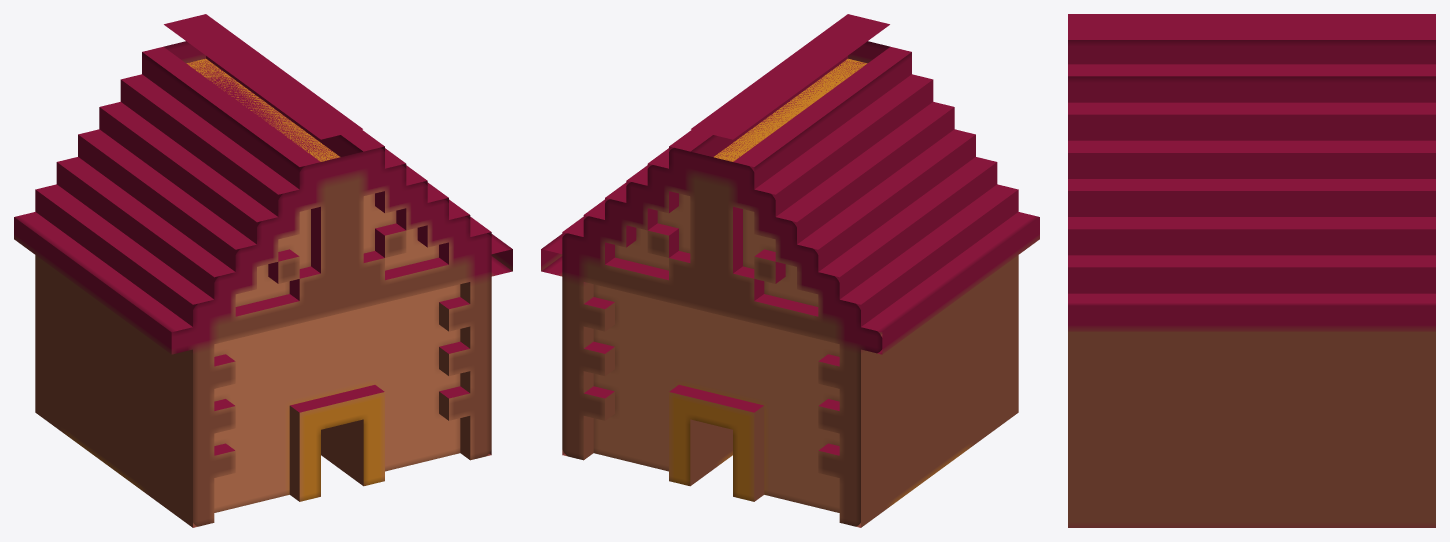
File: House.obj
3 renders of one model, left to right at view 1: azimuth 30°, elevation 25°; view 2: azimuth 150°, elevation 25°; view 3: azimuth 270°, elevation 25°, orthographic. The views are drawn at different scales.
Bounding box in the file's own units: 16 × 16 × 12.8.
Materials: 1 (1 with a texture image).
